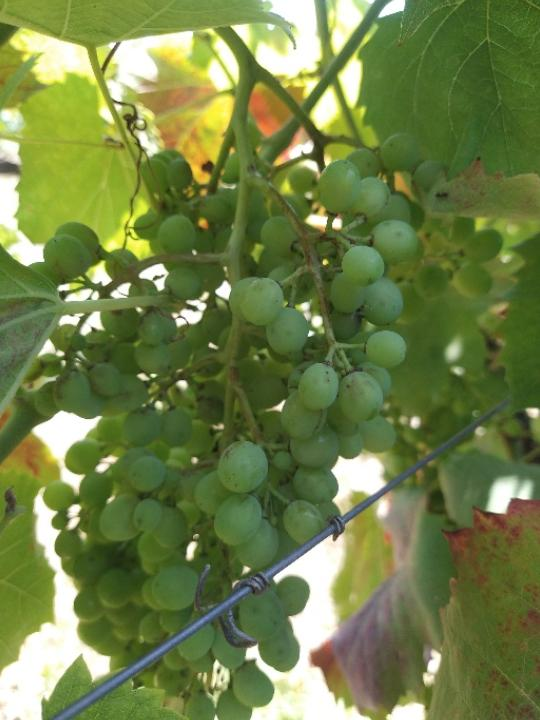grape: (29, 121, 510, 720)
